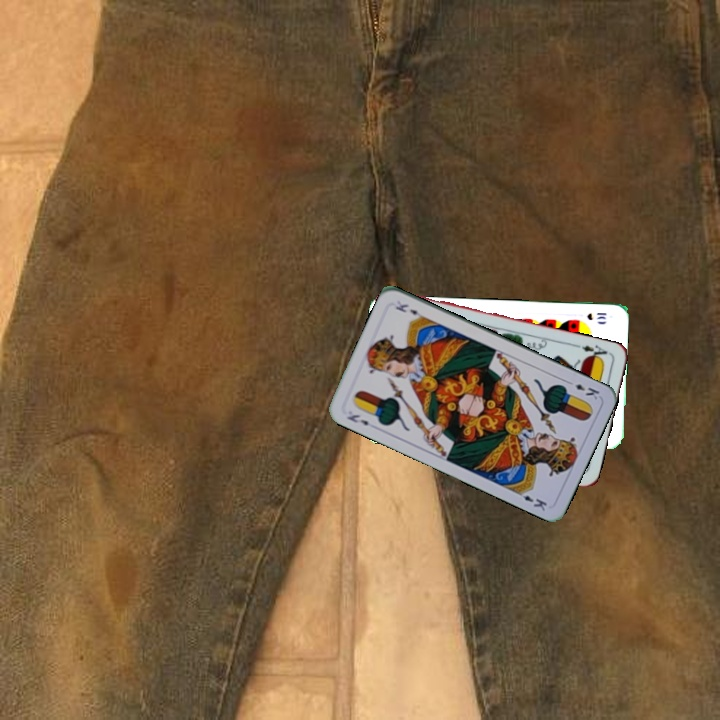EA: (572, 341, 610, 363)
EK: (563, 377, 602, 402), (342, 410, 371, 428)
S10: (583, 309, 609, 322)
